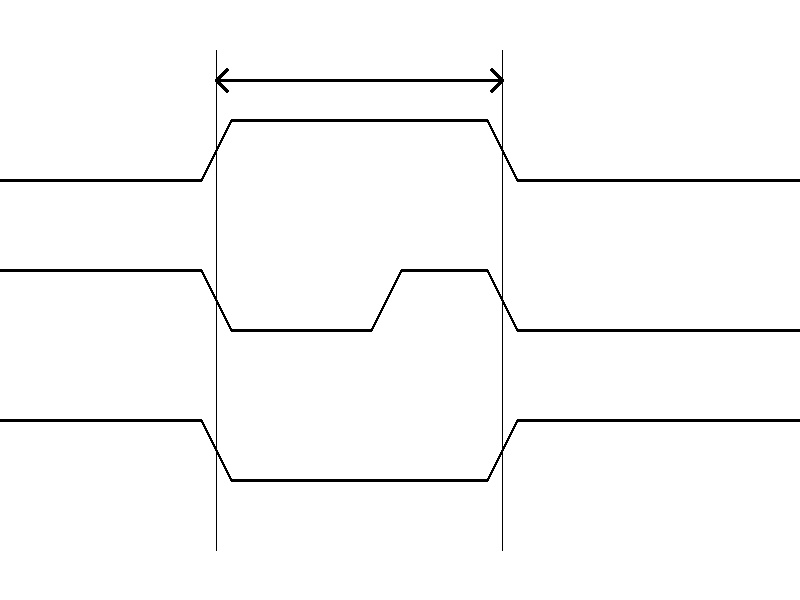double_arrow: (216, 65, 502, 95)
